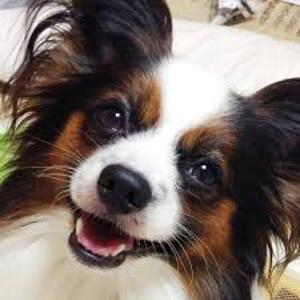yell: (0, 0, 300, 300)
